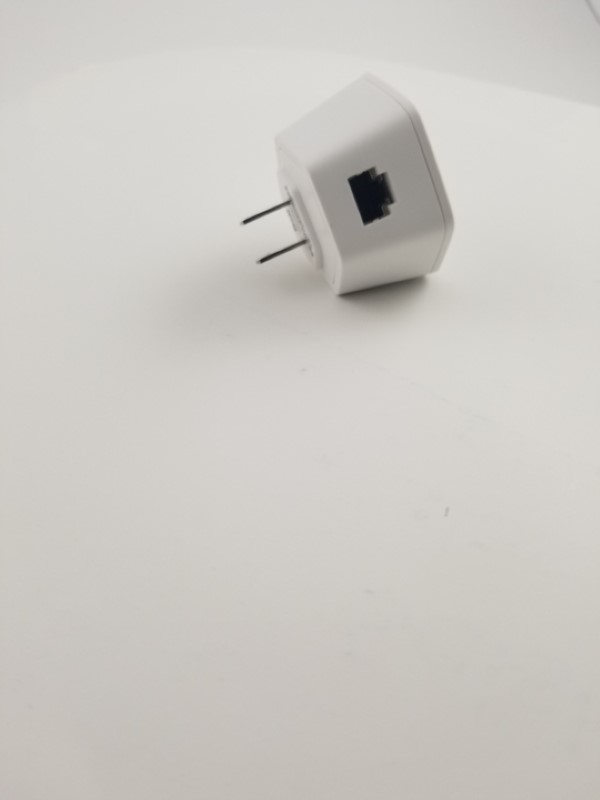pod: (238, 63, 461, 308)
